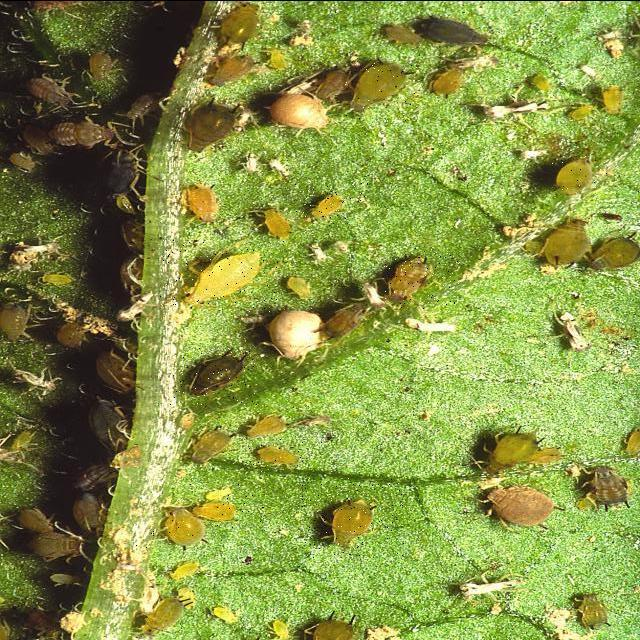aphid: (160, 240, 284, 312), (302, 476, 406, 560), (168, 342, 258, 404), (344, 54, 418, 120), (384, 247, 461, 309), (522, 213, 592, 271), (482, 484, 562, 532), (185, 482, 267, 527), (479, 431, 561, 476), (294, 182, 368, 228), (136, 507, 211, 551), (183, 100, 240, 153), (541, 155, 614, 196), (242, 438, 330, 472), (87, 398, 130, 454), (580, 465, 630, 511), (565, 84, 624, 121), (217, 2, 261, 48), (320, 303, 368, 345), (587, 234, 640, 272), (95, 348, 136, 394), (205, 53, 257, 88), (25, 76, 77, 110), (189, 428, 234, 466), (141, 597, 185, 635), (180, 184, 220, 224), (18, 122, 59, 156), (574, 592, 610, 630), (72, 493, 103, 535), (313, 69, 351, 103), (0, 302, 32, 342), (429, 66, 465, 98), (245, 413, 288, 439), (261, 208, 293, 240), (88, 51, 120, 83), (56, 321, 90, 350), (169, 561, 200, 581)
